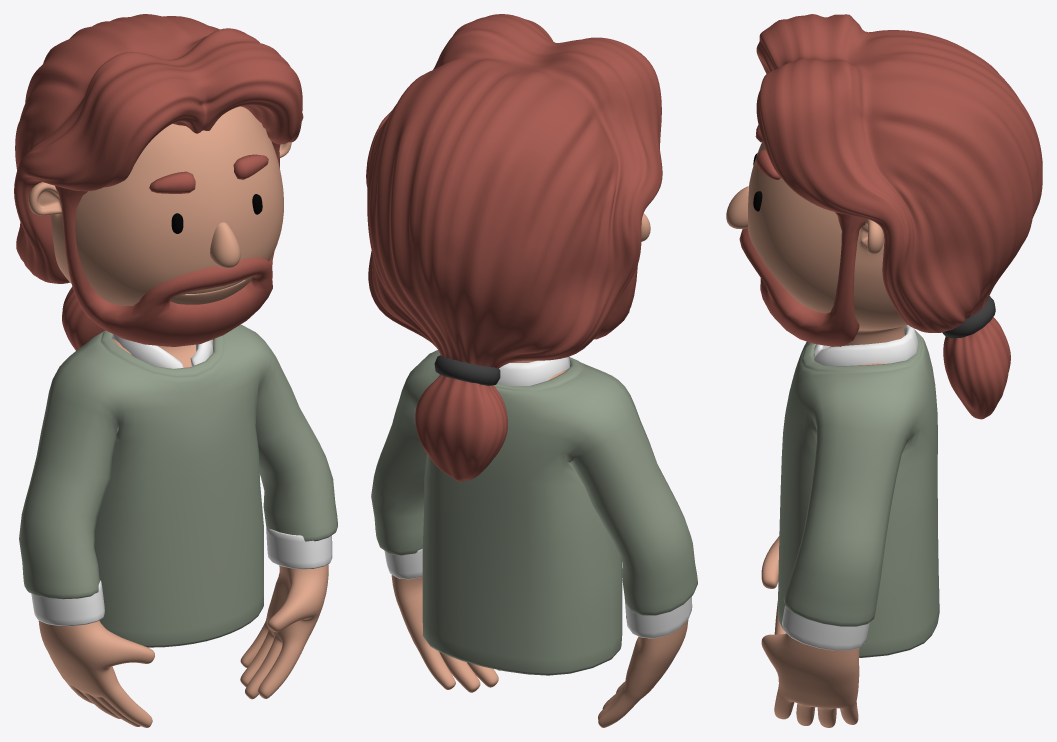
3 renders of one model, left to right at view 1: azimuth 30°, elevation 25°; view 2: azimuth 150°, elevation 25°; view 3: azimuth 270°, elevation 25°, orthographic. The views are drawn at different scales.
Parts seen in each view (by area): view 1: Jumper, body, Hair_4, Beard_4, Eyebrow.007, nose; view 2: Hair_4, Jumper, body, Beard_4; view 3: Hair_4, Jumper, body, Beard_4, nose.
Part boxes in pixels (x1=…): Jumper: x1=19, y1=324, x2=337, y2=647; body: x1=28, y1=106, x2=328, y2=727; Hair_4: x1=14, y1=14, x2=303, y2=350; Beard_4: x1=55, y1=142, x2=280, y2=346; Eyebrow.007: x1=149, y1=154, x2=268, y2=193; nose: x1=210, y1=222, x2=240, y2=268; Hair_4: x1=366, y1=14, x2=662, y2=481; Jumper: x1=371, y1=350, x2=697, y2=675; body: x1=391, y1=213, x2=688, y2=727; Beard_4: x1=594, y1=265, x2=637, y2=339; Hair_4: x1=756, y1=14, x2=1042, y2=419; Jumper: x1=778, y1=325, x2=939, y2=657; body: x1=748, y1=140, x2=907, y2=727; Beard_4: x1=739, y1=212, x2=867, y2=346; nose: x1=726, y1=186, x2=748, y2=228.
Size of the model in its own units: 6.38 by 13.36 by 5.84.
